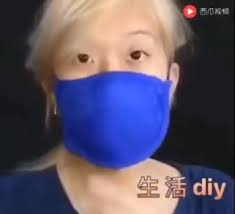flumask: (59, 74, 171, 169)
